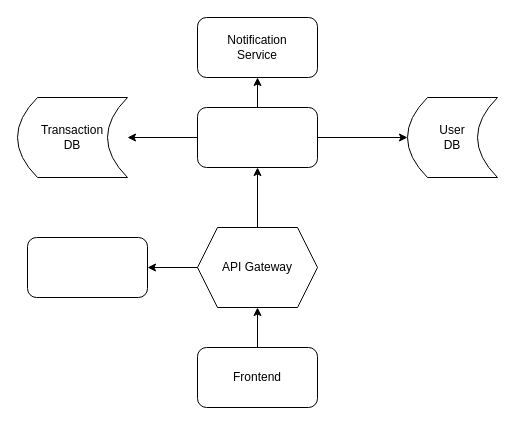
This 515x425 diagram has some shape labels left out. Here are the shapes that lost their labels. From the top down, the centre of each, then its label:
(x=257, y=137): Transaction Service
(x=87, y=267): Authorization Service
